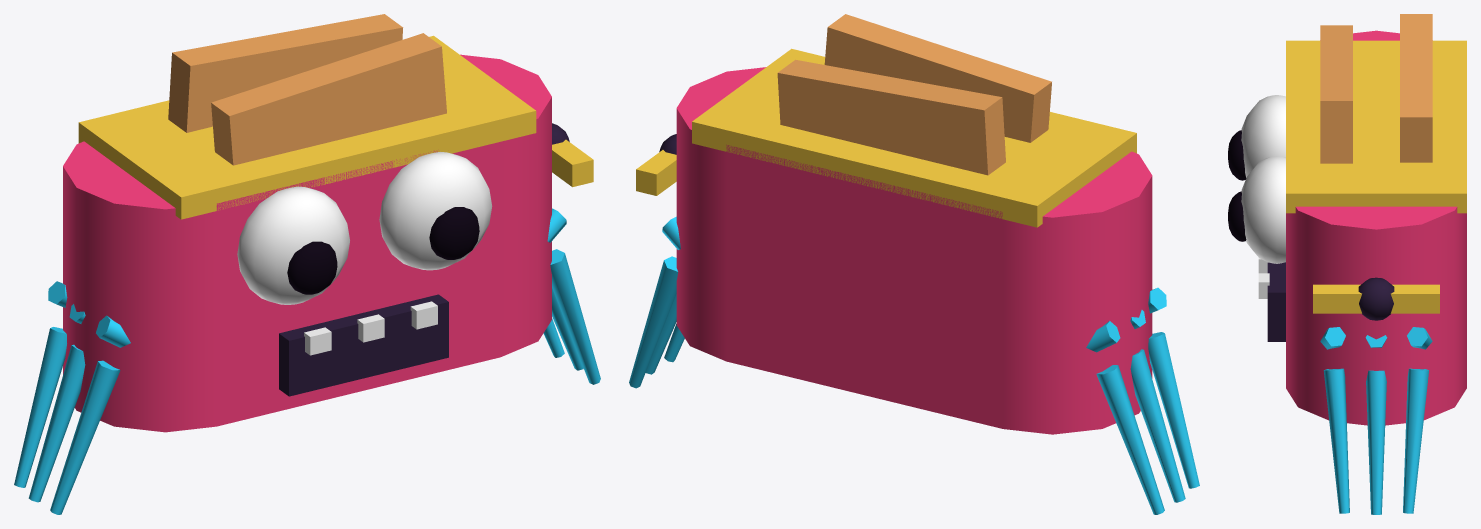
Rendered from sample-bug.glb.
3 renders of one model, left to right at view 1: azimuth 30°, elevation 25°; view 2: azimuth 150°, elevation 25°; view 3: azimuth 270°, elevation 25°, orthographic. The views are drawn at different scales.
Visible parts, largest first — view 1: toasty, jaw, eyeL, eyeR, leg3, leg1, leg2, leg6, spinner, leg5; view 2: toasty, leg1, leg3, leg2, leg4, spinner, leg5; view 3: toasty, eyeR, spinner, eyeL, leg6, leg4, leg5, jaw.
Part boxes in pixels (x1,y1,x2,y2): toasty: [63, 14, 551, 432]; jaw: [279, 294, 448, 396]; eyeL: [237, 186, 349, 304]; eyeR: [379, 152, 492, 270]; leg3: [50, 315, 130, 514]; leg1: [14, 281, 67, 487]; leg2: [28, 304, 85, 502]; leg6: [547, 208, 600, 384]; spinner: [552, 123, 593, 187]; leg5: [552, 288, 583, 370]; toasty: [676, 14, 1152, 434]; leg1: [1086, 321, 1164, 514]; leg3: [1148, 287, 1199, 488]; leg2: [1130, 310, 1185, 502]; leg4: [629, 216, 680, 388]; spinner: [636, 134, 676, 195]; leg5: [645, 294, 676, 374]; toasty: [1286, 14, 1466, 425]; eyeR: [1228, 156, 1285, 263]; spinner: [1313, 277, 1439, 320]; eyeL: [1228, 95, 1285, 180]; leg6: [1320, 327, 1349, 513]; leg4: [1403, 327, 1432, 513]; leg5: [1365, 335, 1387, 514]; jaw: [1258, 258, 1285, 341].
Bounding box in the file's own units: 0.3123 × 0.2082 × 0.132.
